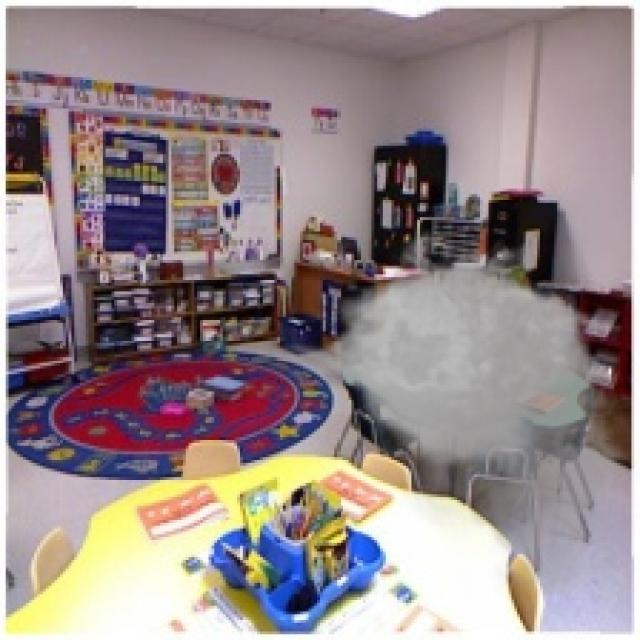Smoke: (277, 217, 637, 603)
